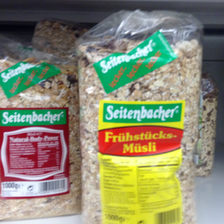cereal: (77, 31, 203, 224), (1, 58, 79, 221)
